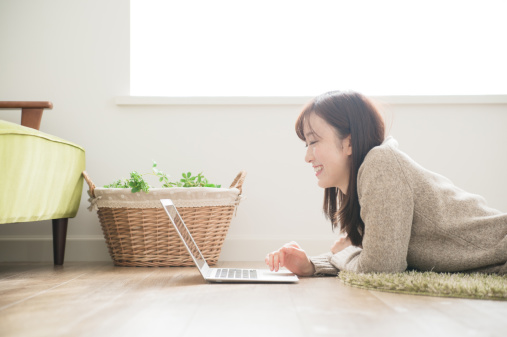deitado: (266, 89, 507, 296)
